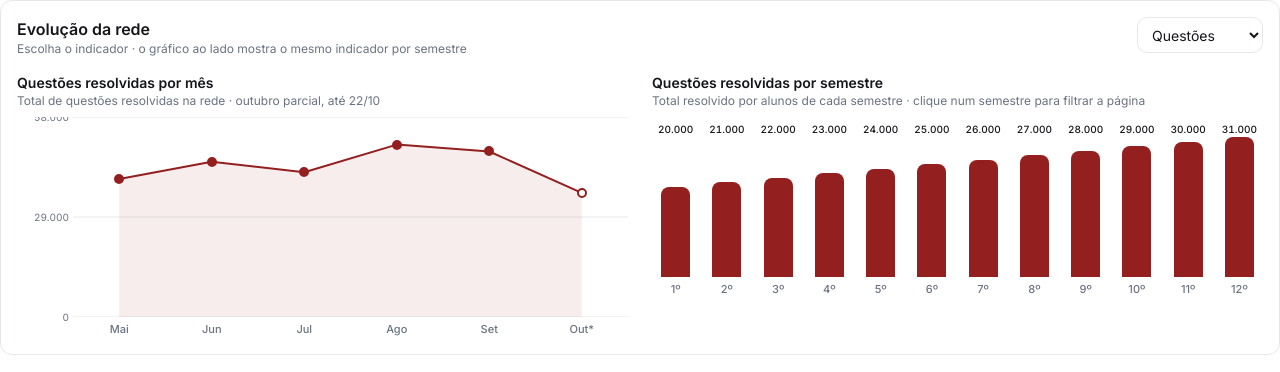
Test: EvolucaoRede (§12.5) › indicador acerto: títulos e descrições da §12.5
The image size is (1280, 372).
Select "% de acerto" in the dropdown named "Indicador" at (1200, 35), box [1137, 17, 1263, 53]
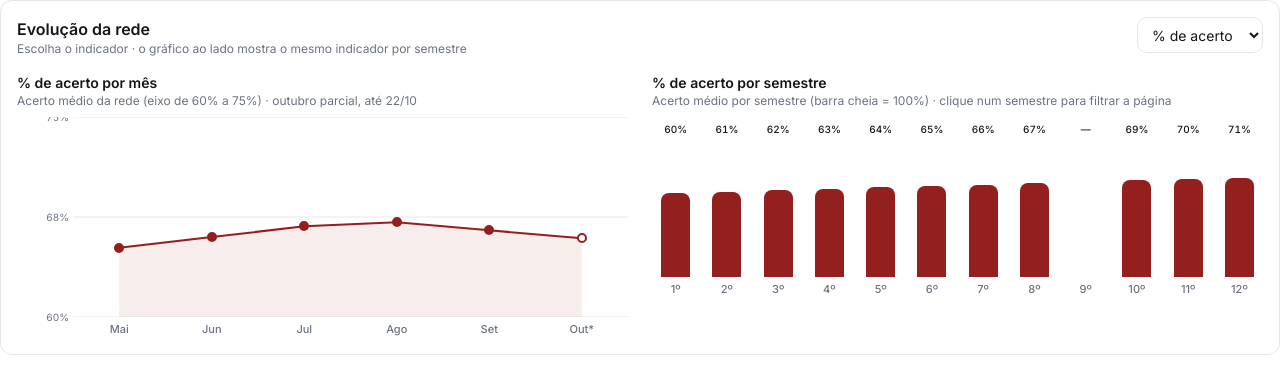
Expected: the heading "% de acerto por semestre" is shown, [652, 74, 827, 91]
